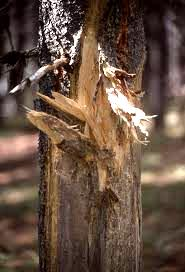Mammals Attack: (39, 27, 142, 190)
